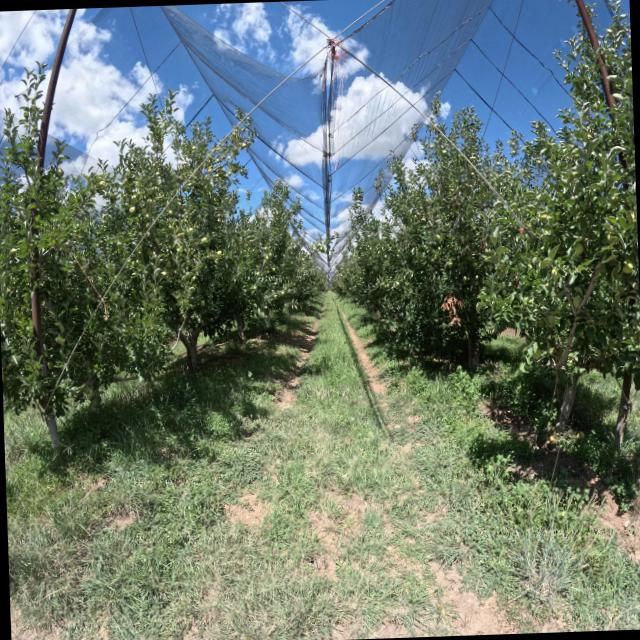-FireBlight-: (440, 294, 465, 328), (477, 237, 487, 251), (512, 274, 520, 288)
